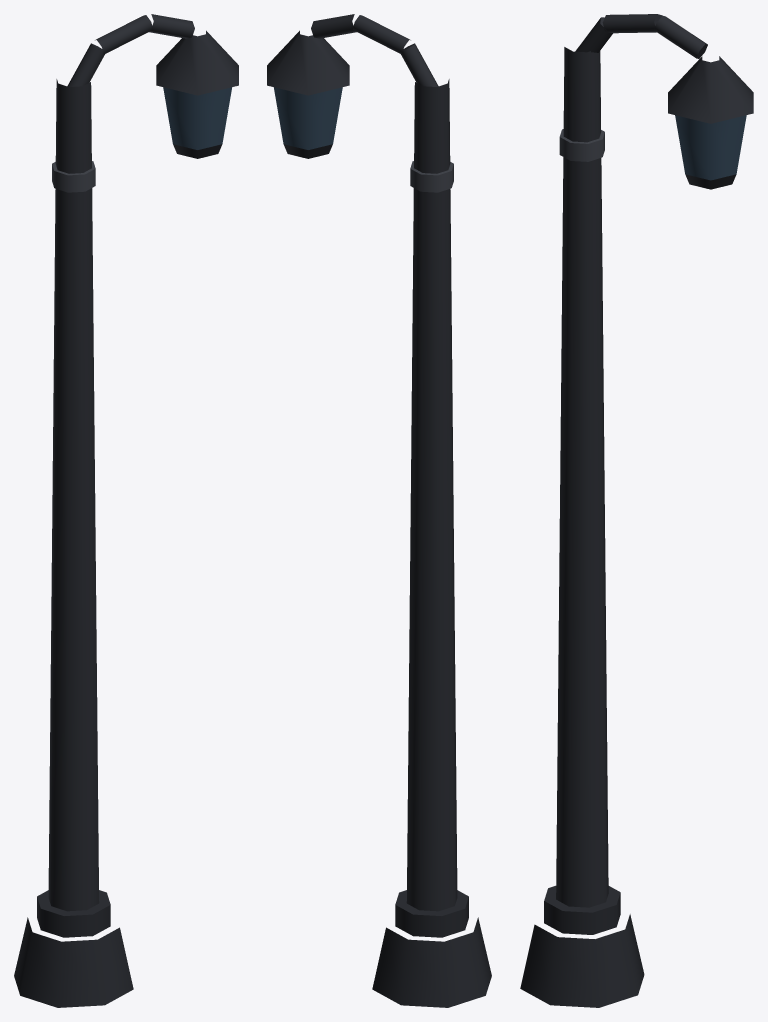
The model's file is LampPost.glb.
3 views of the same model, side by side, from view 1: azimuth 30°, elevation 25°; view 2: azimuth 150°, elevation 25°; view 3: azimuth 330°, elevation 25° (orthographic). The views are drawn at different scales.
Visible parts, largest first — view 1: LampPost; view 2: LampPost; view 3: LampPost.
Boxes of the visible parts, x1=… form: LampPost: x1=14, y1=14, x2=238, y2=1007; LampPost: x1=267, y1=14, x2=491, y2=1007; LampPost: x1=520, y1=14, x2=753, y2=1007.
Bounding box in the file's own units: 1.06 × 4.4 × 0.52.
